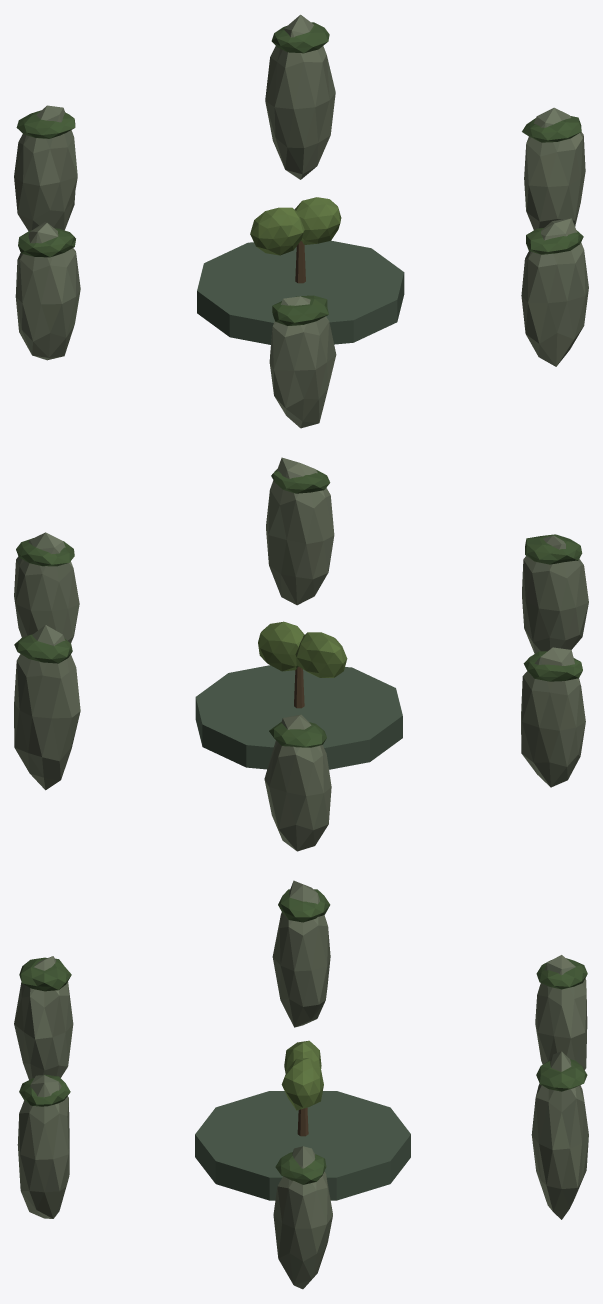
File: forest-landmark.glb
The picture shows the model from 3 angles, top to bottom: view 1: azimuth 30°, elevation 25°; view 2: azimuth 150°, elevation 25°; view 3: azimuth 270°, elevation 25°; orthographic projection. The views are drawn at different scales.
Parts seen in each view (by area): view 1: forest-landmark; view 2: forest-landmark; view 3: forest-landmark.
Boxes of the visible parts, left/top/right/bottom form: forest-landmark: left=14, top=14, right=588, bottom=428; forest-landmark: left=14, top=457, right=588, bottom=851; forest-landmark: left=14, top=880, right=588, bottom=1289.
Size of the model in its own units: 5.24 by 1.52 by 4.52.
